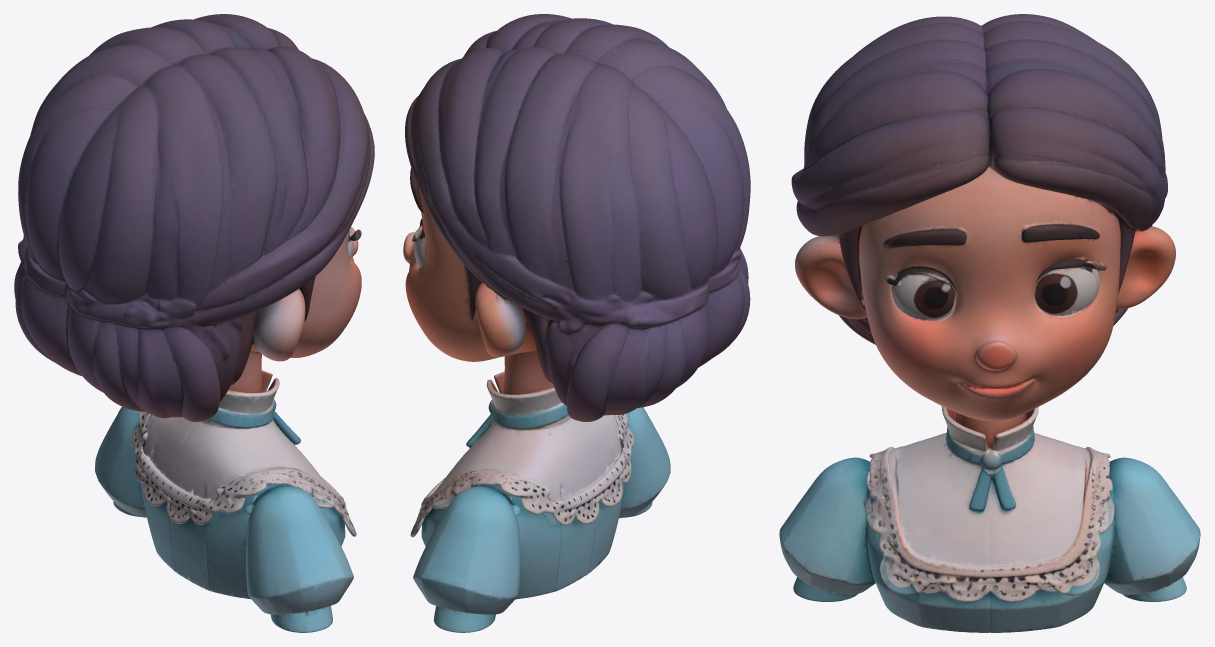
The model's file is composer_clara.glb.
The picture shows the model from 3 angles, left to right: view 1: azimuth 30°, elevation 25°; view 2: azimuth 150°, elevation 25°; view 3: azimuth 270°, elevation 25°; orthographic projection. The views are drawn at different scales.
Parts seen in each view (by area): view 1: tripo_node_5c548870-0a48-49ee-bcec-099354f835fd; view 2: tripo_node_5c548870-0a48-49ee-bcec-099354f835fd; view 3: tripo_node_5c548870-0a48-49ee-bcec-099354f835fd.
Boxes of the visible parts, <box> form: tripo_node_5c548870-0a48-49ee-bcec-099354f835fd: <box>14,14,374,632</box>; tripo_node_5c548870-0a48-49ee-bcec-099354f835fd: <box>403,14,750,632</box>; tripo_node_5c548870-0a48-49ee-bcec-099354f835fd: <box>779,14,1200,632</box>.
Size of the model in its own units: 0.6228 by 1 by 0.7021.
Materials: 1 (1 with a texture image).
